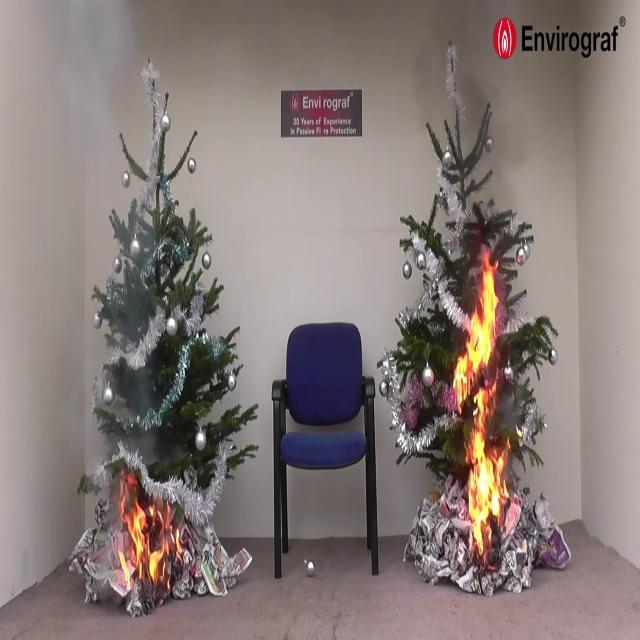Fire: (450, 251, 512, 548), (114, 487, 178, 595)
